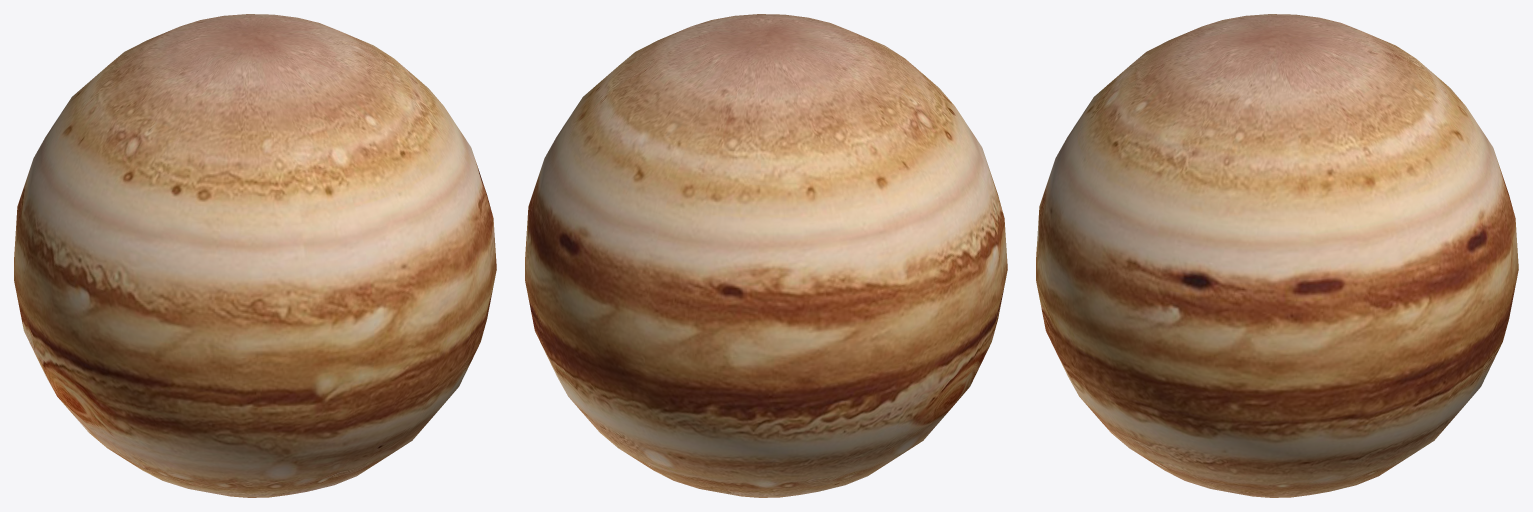
Rendered from jupiter.FBX.
3 views of the same model, side by side, from view 1: azimuth 30°, elevation 25°; view 2: azimuth 150°, elevation 25°; view 3: azimuth 270°, elevation 25° (orthographic).
Visible parts, largest first — view 1: Sun; view 2: Sun; view 3: Sun.
Boxes of the visible parts, x1,y1,x2,y2 form: Sun: (14, 14, 496, 497); Sun: (525, 14, 1007, 497); Sun: (1036, 14, 1518, 497).
Bounding box in the file's own units: 11.07 × 11.11 × 11.05.
Materials: 1 (1 with a texture image).
